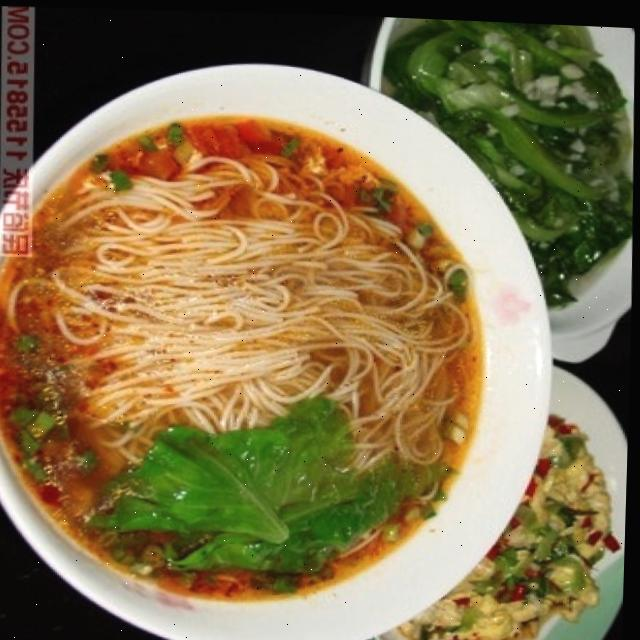面条主食: (25, 85, 586, 638)
